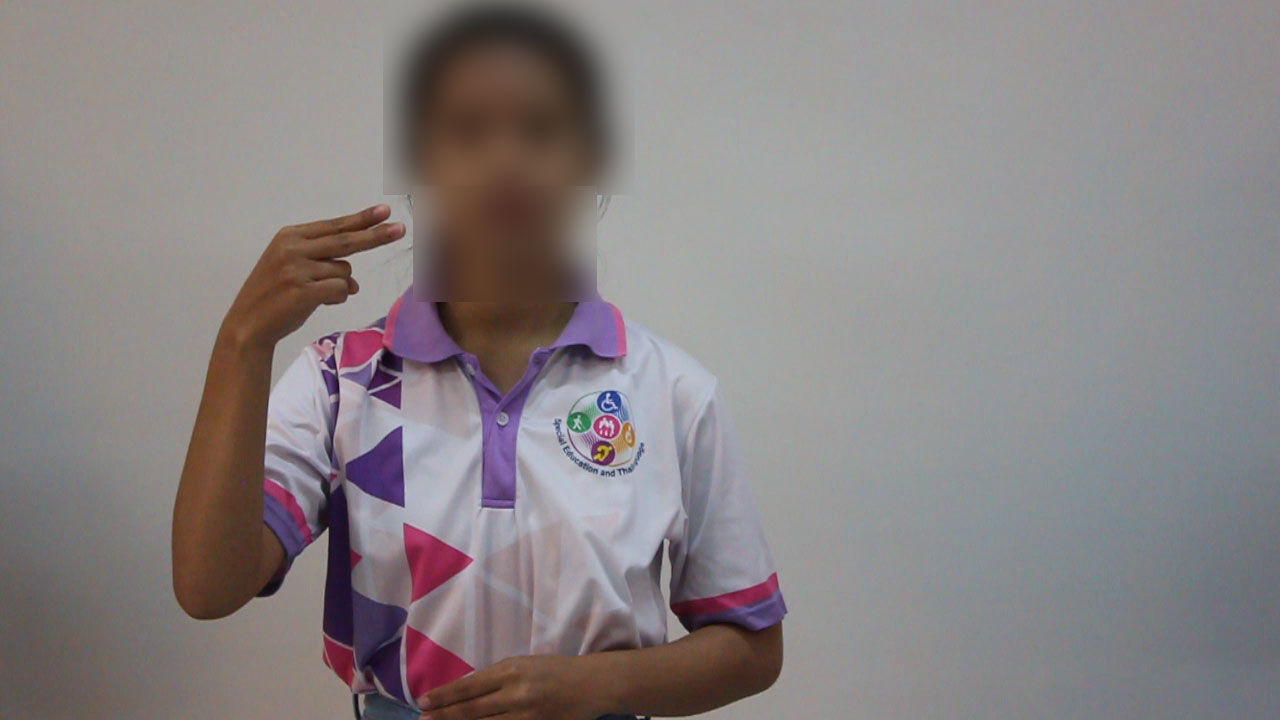hor: (229, 196, 419, 354)
